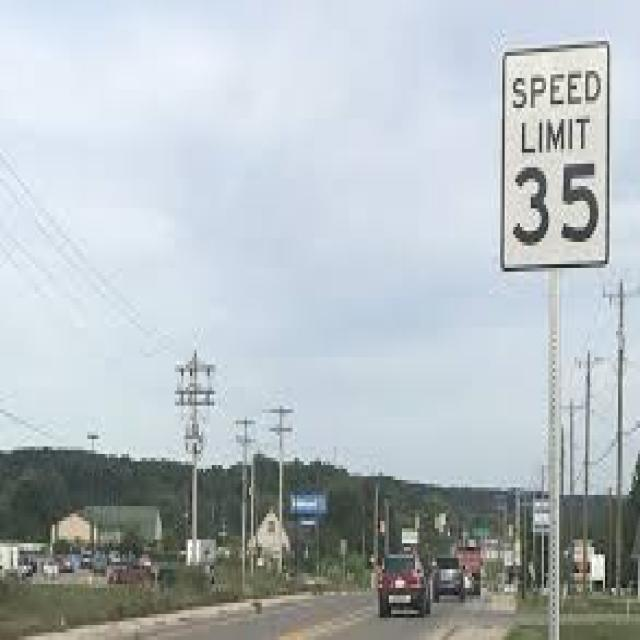speedLimit35: (497, 41, 608, 272)
